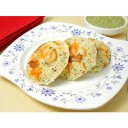idly: (23, 41, 70, 82), (65, 37, 95, 76), (95, 37, 112, 70)
